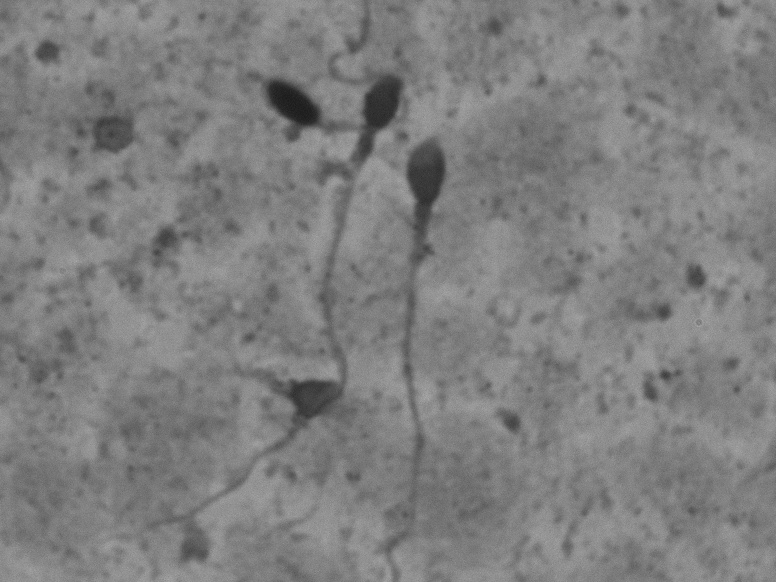Abnormal: (98, 46, 413, 557), (368, 114, 462, 537)
